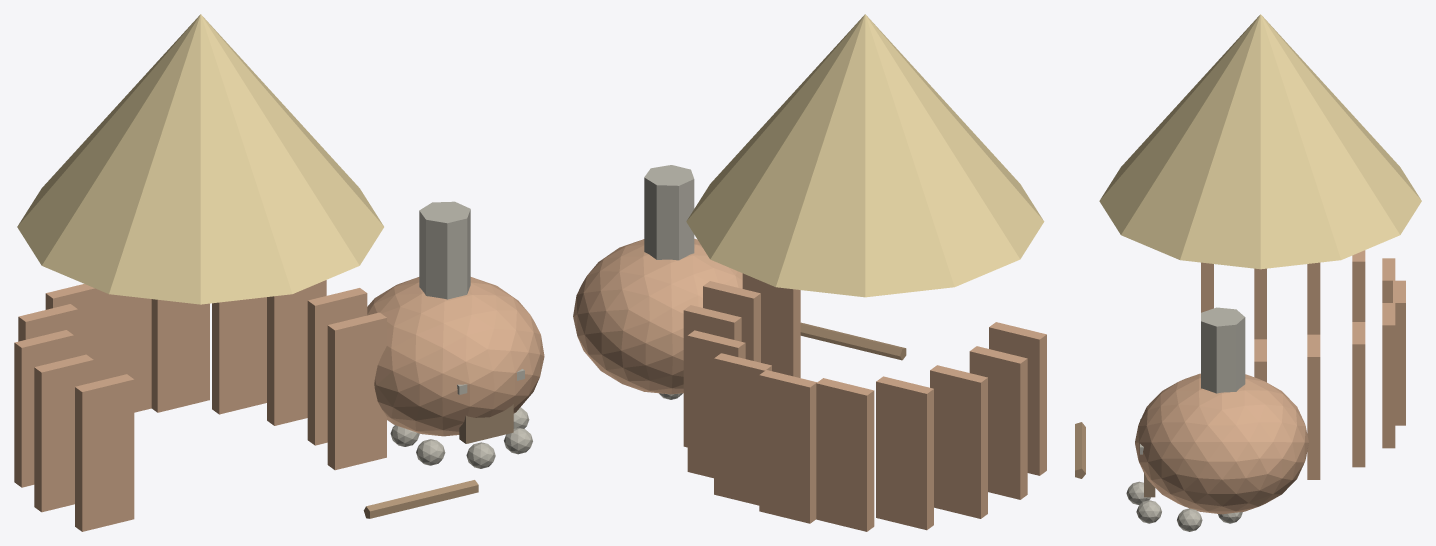
Rendered from bakery.glb.
3 renders of one model, left to right at view 1: azimuth 30°, elevation 25°; view 2: azimuth 150°, elevation 25°; view 3: azimuth 270°, elevation 25°, orthographic. The views are drawn at different scales.
Parts seen in each view (by area): view 1: part11, part12, part2, part1, part3, part8, part9, part10, part15, part7, part0, part4 (+4 smaller); view 2: part11, part12, part6, part5, part7, part4, part8, part3, part15, part9, part2, part1 (+3 smaller); view 3: part11, part12, part15, part8, part9, part10, part7, part4, part5, part3, part2, part6 (+3 smaller).
Boxes of the visible parts, x1,y1,x2,y2 form: part11: [17, 14, 383, 304]; part12: [367, 277, 544, 436]; part2: [75, 374, 134, 531]; part1: [327, 312, 386, 470]; part3: [34, 354, 93, 512]; part8: [151, 299, 209, 412]; part9: [212, 297, 266, 414]; part10: [267, 280, 326, 425]; part15: [419, 201, 470, 299]; part7: [105, 293, 151, 412]; part0: [307, 288, 367, 445]; part4: [14, 330, 73, 487]; part11: [686, 14, 1044, 297]; part12: [573, 238, 742, 394]; part6: [816, 378, 874, 531]; part5: [876, 376, 933, 530]; part7: [759, 370, 816, 523]; part4: [930, 365, 987, 518]; part8: [714, 353, 771, 505]; part3: [969, 346, 1027, 499]; part15: [644, 165, 694, 260]; part9: [687, 330, 745, 478]; part2: [989, 322, 1046, 475]; part1: [742, 273, 800, 377]; part11: [1099, 14, 1421, 269]; part12: [1135, 373, 1308, 514]; part15: [1201, 307, 1245, 393]; part8: [1382, 303, 1395, 448]; part9: [1352, 322, 1365, 467]; part10: [1307, 334, 1320, 479]; part7: [1393, 280, 1405, 425]; part4: [1307, 262, 1320, 334]; part5: [1352, 250, 1365, 321]; part3: [1254, 268, 1266, 339]; part2: [1201, 262, 1213, 312]; part6: [1382, 258, 1395, 302].
Bounding box in the file's own units: 7.41 × 6.85 × 5.38.
